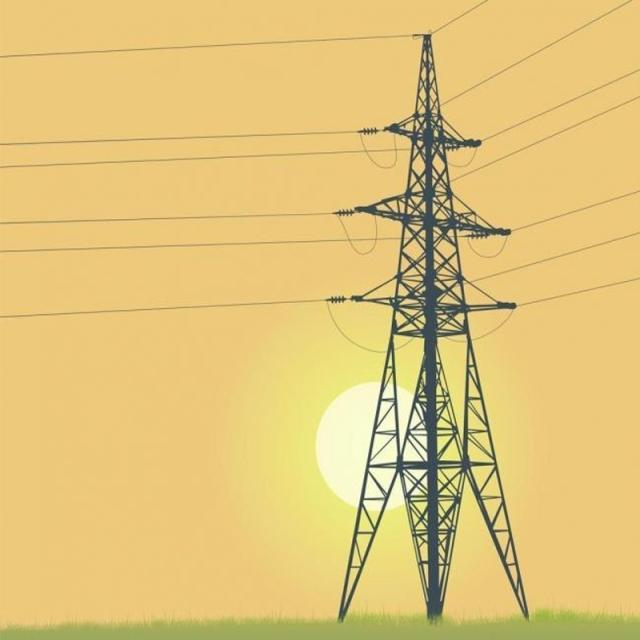non-critical vegetation: (344, 26, 532, 608)
